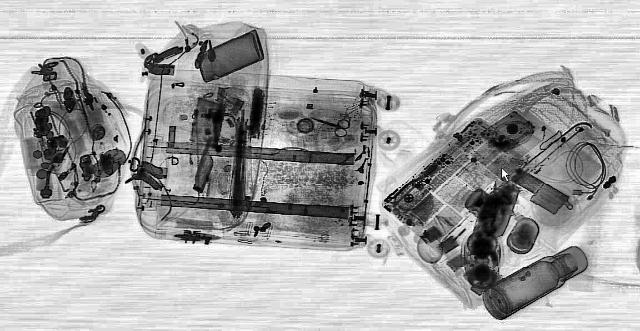Scissors: (301, 111, 359, 136)
